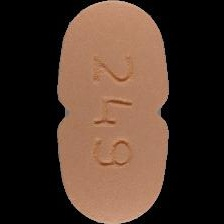61919-535: (0, 0, 224, 224)
